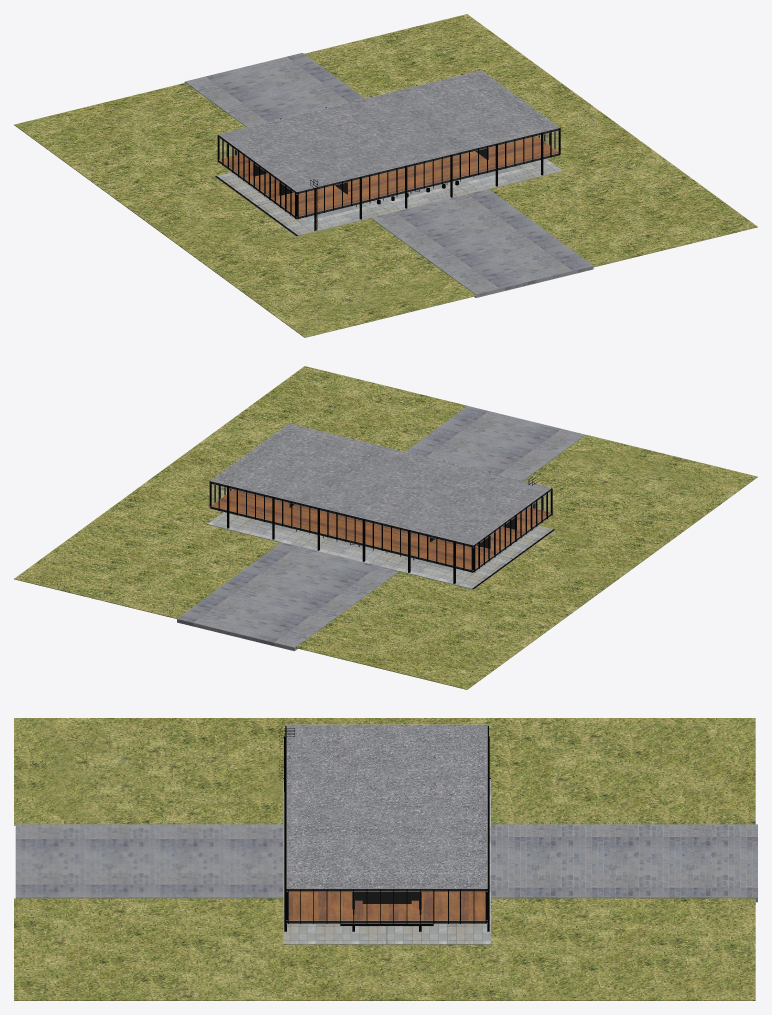
The model's file is mies_van_der_rohe_oficina_bacardi_optimized.glb.
3 views of the same model, one above another, from view 1: azimuth 30°, elevation 25°; view 2: azimuth 150°, elevation 25°; view 3: azimuth 270°, elevation 25° (orthographic). The views are drawn at different scales.
Parts seen in each view (by area): view 1: Plataforma 001, Losa 002, Plataforma 002, Plataforma 004, Losa 001, Plataforma 003; view 2: Plataforma 001, Losa 002, Plataforma 004, Plataforma 002, Losa 001, Plataforma 003; view 3: Plataforma 001, Losa 002, Plataforma 002, Plataforma 004, Losa 001, Plataforma 003, Muro PA 002, Borde Losa 003.
Part boxes in pixels (left/top/right/bottom): Plataforma 001: left=14, top=14, right=757, bottom=337; Losa 002: left=218, top=70, right=559, bottom=194; Plataforma 002: left=371, top=189, right=593, bottom=297; Plataforma 004: left=184, top=53, right=364, bottom=127; Losa 001: left=219, top=136, right=558, bottom=219; Plataforma 003: left=215, top=159, right=562, bottom=236; Plataforma 001: left=14, top=366, right=757, bottom=689; Losa 002: left=210, top=423, right=551, bottom=547; Plataforma 004: left=177, top=542, right=399, bottom=651; Plataforma 002: left=405, top=406, right=585, bottom=480; Losa 001: left=211, top=489, right=551, bottom=572; Plataforma 003: left=207, top=512, right=554, bottom=589; Plataforma 001: left=14, top=718, right=755, bottom=1000; Losa 002: left=287, top=725, right=487, bottom=891; Plataforma 002: left=15, top=824, right=283, bottom=898; Plataforma 004: left=491, top=824, right=757, bottom=902; Losa 001: left=287, top=892, right=487, bottom=923; Plataforma 003: left=283, top=778, right=490, bottom=944; Muro PA 002: left=353, top=892, right=421, bottom=914; Borde Losa 003: left=286, top=724, right=487, bottom=888.
Size of the model in its own units: 9000 by 1036 by 10031.
14 materials, 6 textured.
